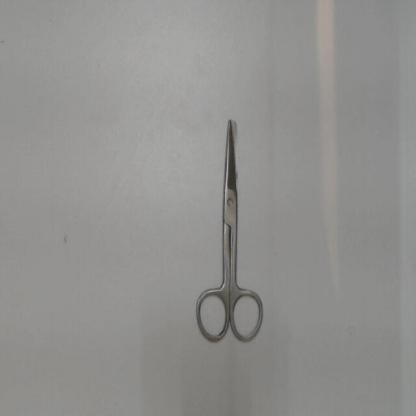Dressing Scissors: (188, 101, 272, 353)
